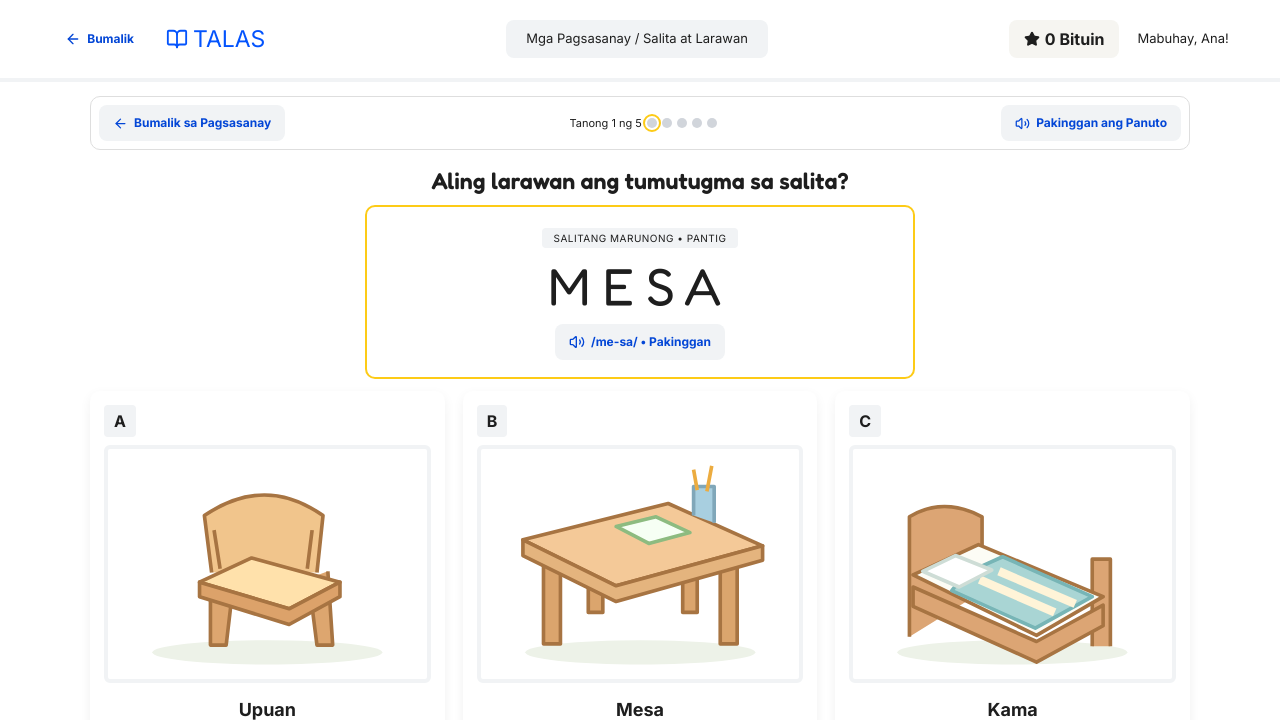
picture practice › plays the unedited whole-word recording without browser speech voices and stops on exit
This screenshot has width=1280, height=720.
Click the button "/me-sa/ • Pakinggan" at (640, 342), box [555,324,725,360]
(page scrolled)
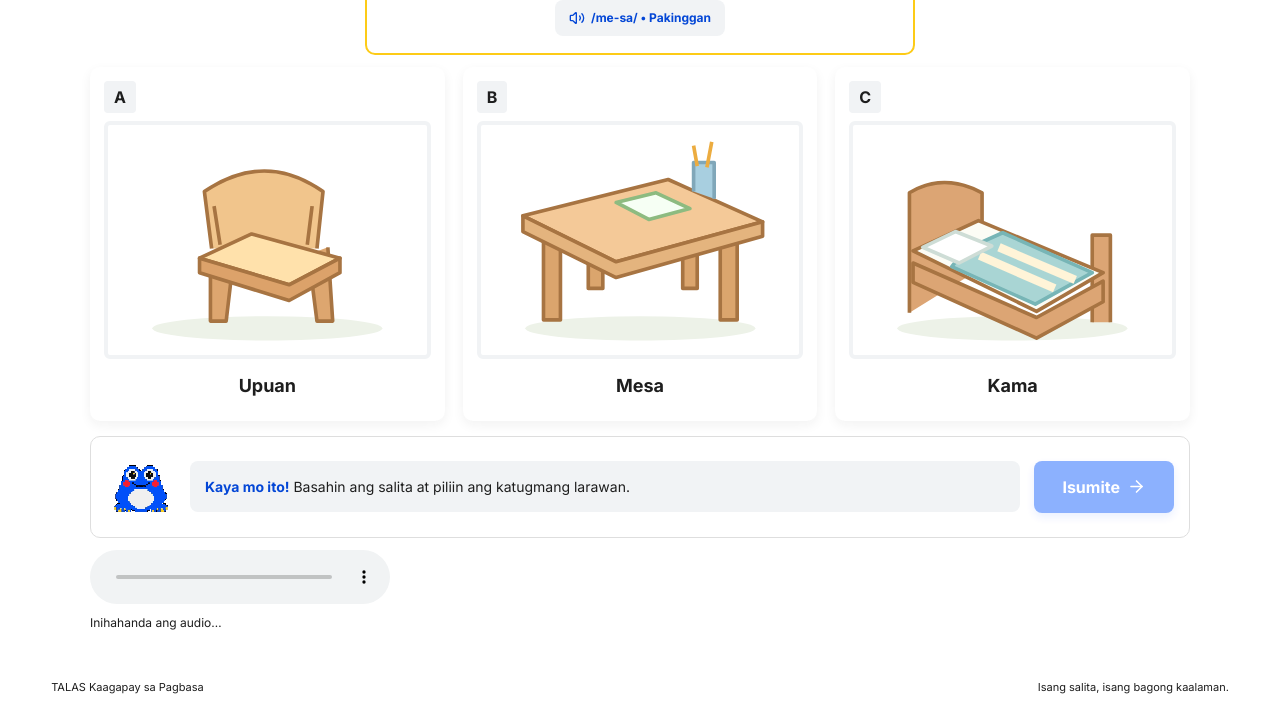
Now the element named "Audio sa Filipino" is shown, box [90,550,390,604]
